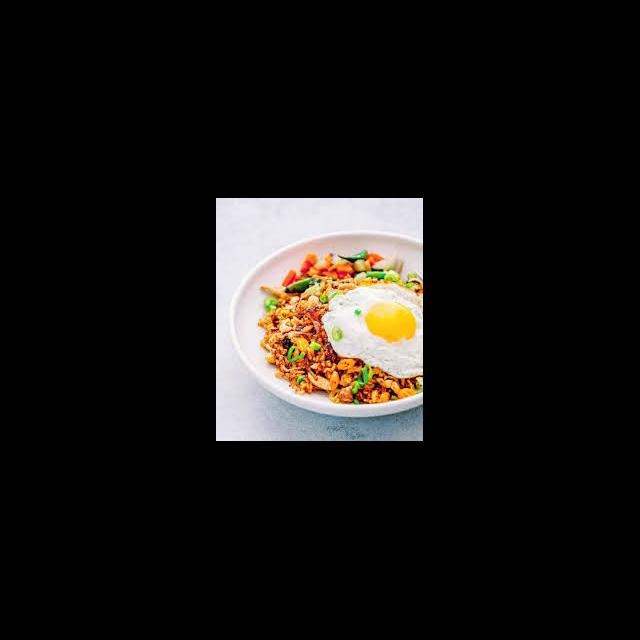food_waste: (290, 284, 416, 360)
